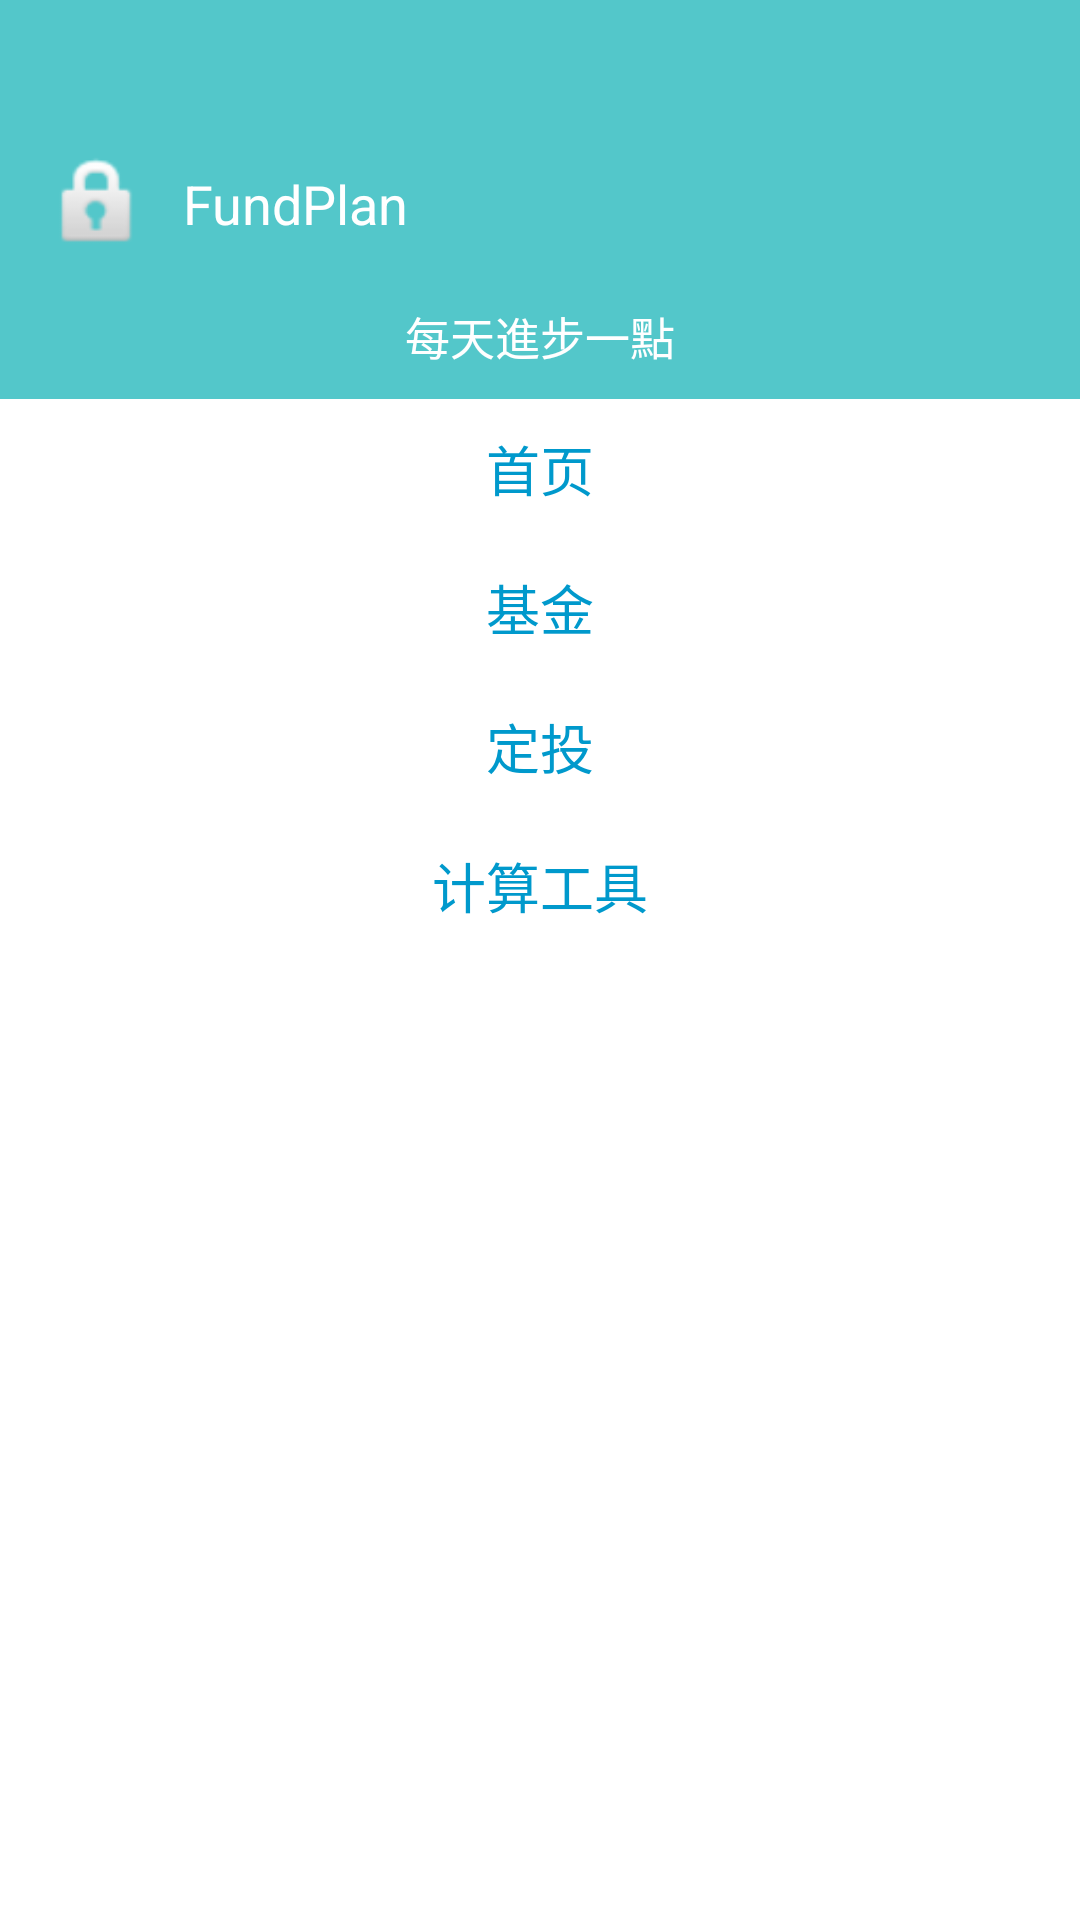

Screen size 1080 x 1920. Icon name, then its box in pixels as (x1, y1, x2, y2):
lock idle: (61, 159, 132, 242)
